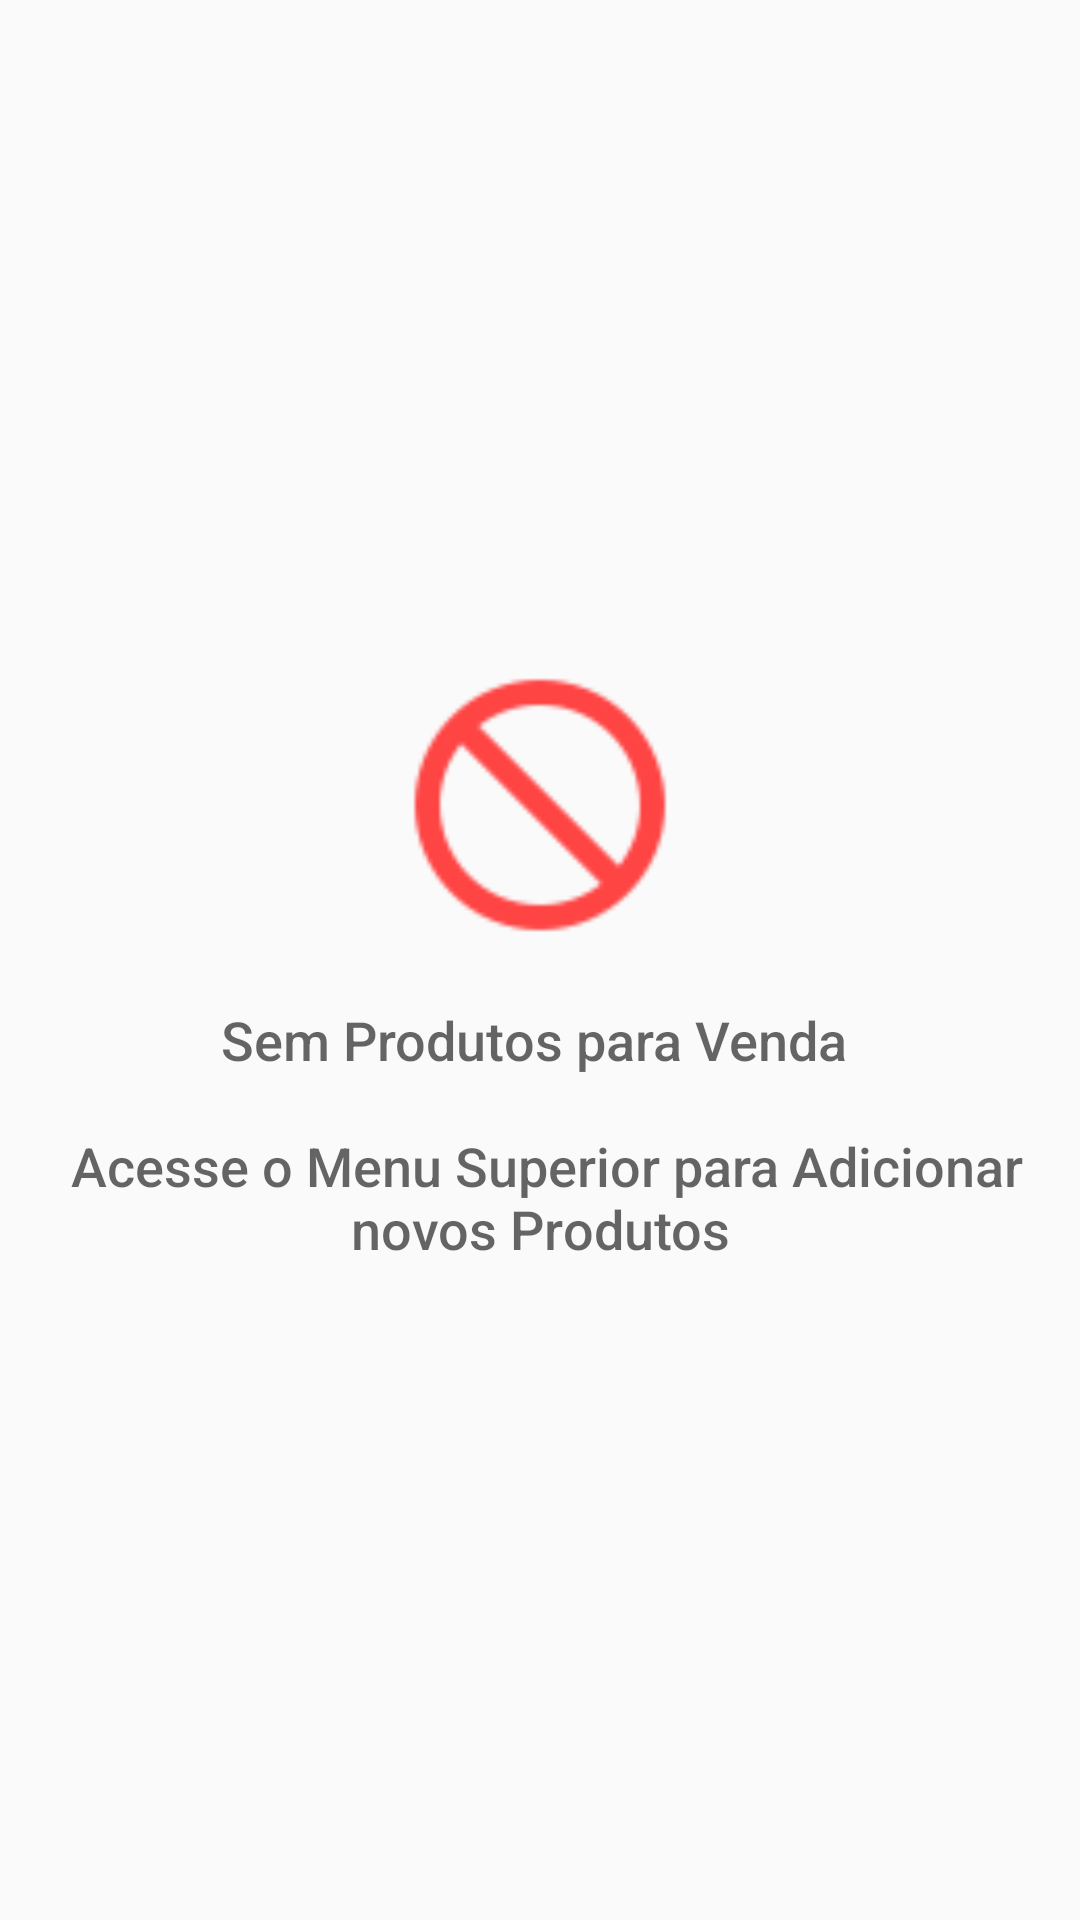

Screen size 1080 × 1920. Icon name, then its center in pixels as point (x, y):
Empty List Image: point (540, 805)
